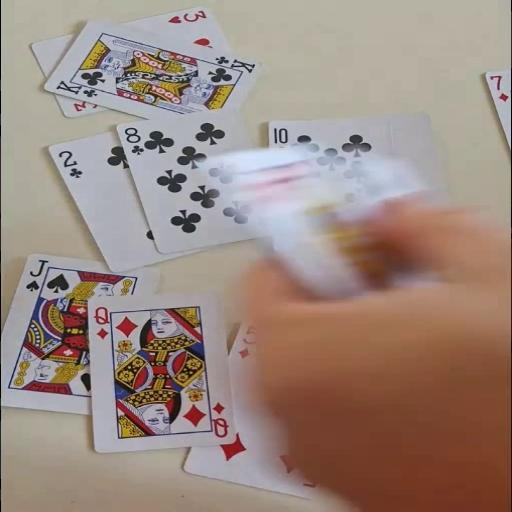10: (208, 400, 230, 438)
2: (54, 147, 84, 179)
3: (165, 8, 208, 24)
7: (486, 74, 510, 102)
8: (121, 125, 145, 156)
J: (22, 257, 49, 293)
K: (53, 77, 103, 99)
Q: (208, 400, 230, 438), (92, 305, 111, 340)
